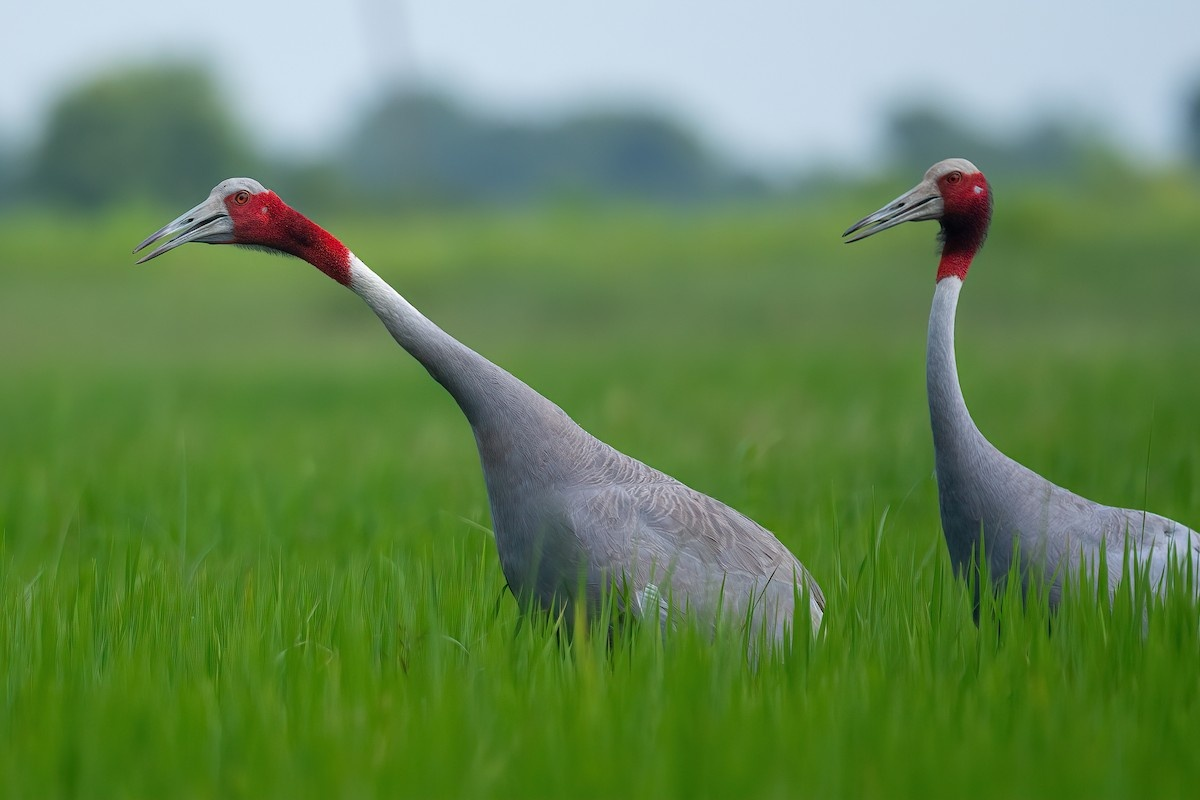crane: (121, 158, 852, 645), (826, 146, 1200, 617)
